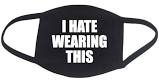cloth_mask: (1, 4, 159, 79)
